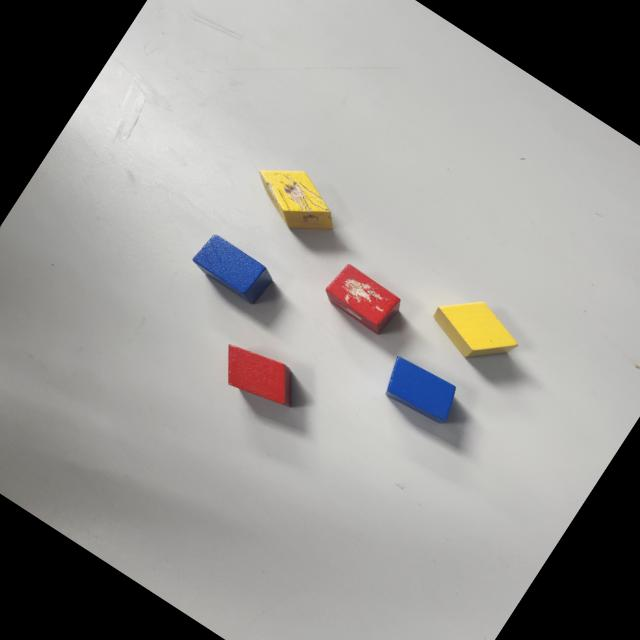blue: (375, 351, 465, 431), (188, 230, 274, 306)
broken: (241, 150, 350, 248), (318, 260, 406, 338)
red: (209, 333, 307, 419)
yellow: (422, 282, 528, 379)
